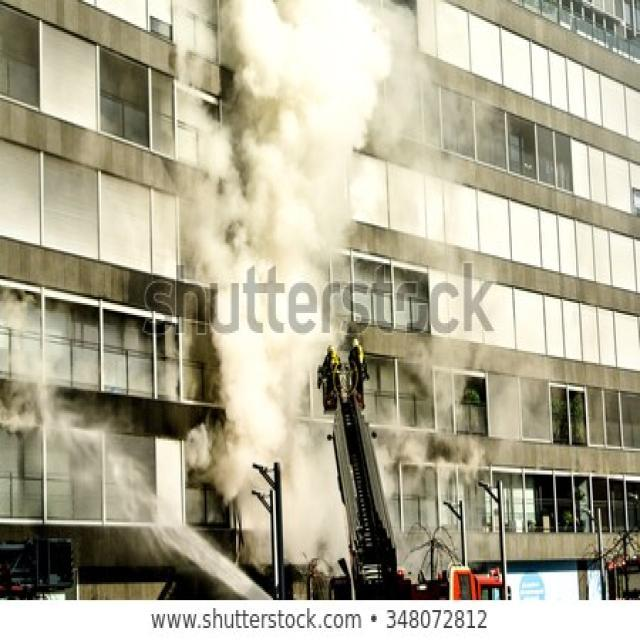Smoke: (214, 8, 376, 261), (207, 334, 350, 568)
